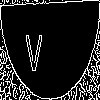V: (25, 25, 43, 72)
